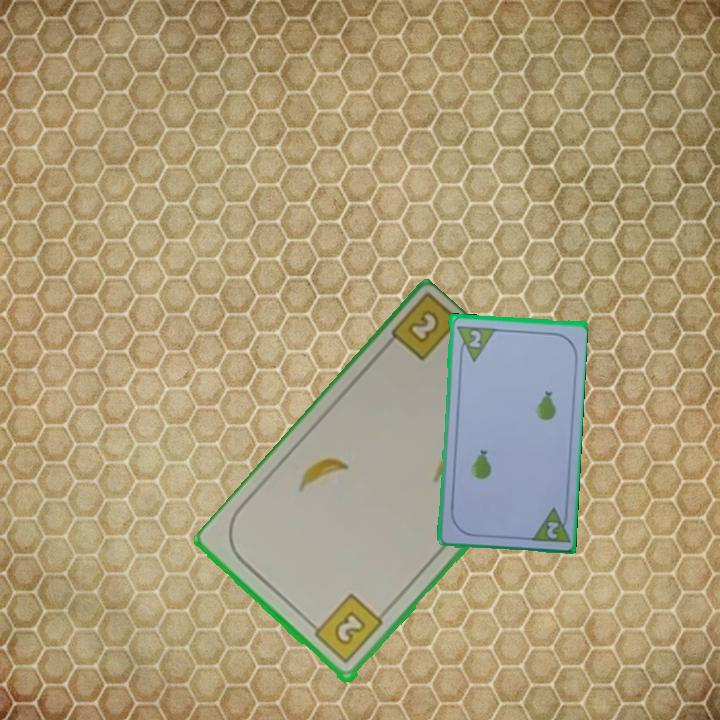2b: (306, 591, 386, 667), (403, 306, 443, 347)
2p: (526, 503, 571, 546), (453, 322, 496, 364)
